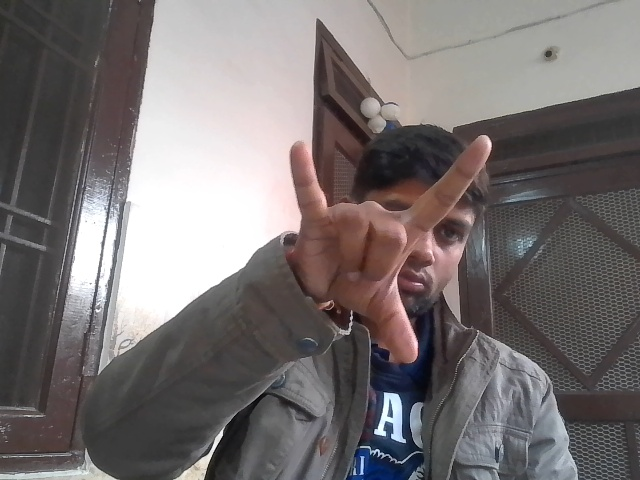ILoveYou: (275, 132, 502, 363)
